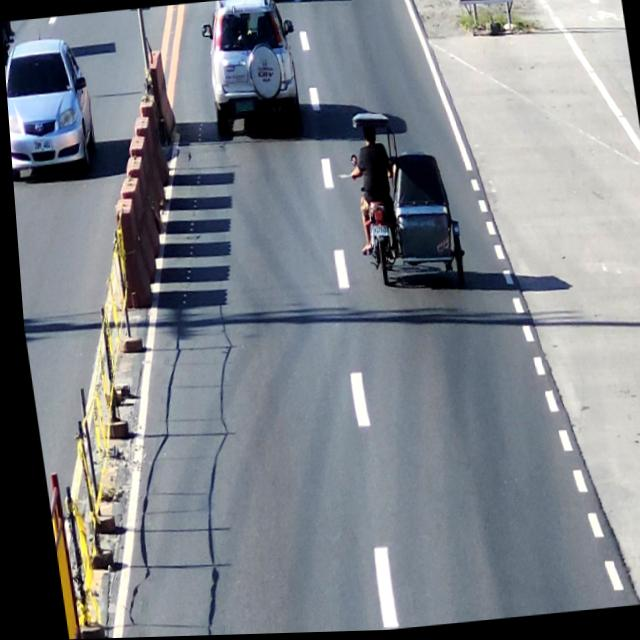Car: (201, 0, 304, 145)
License-Plate: (366, 225, 388, 245)
Tricycle: (339, 105, 470, 297)
